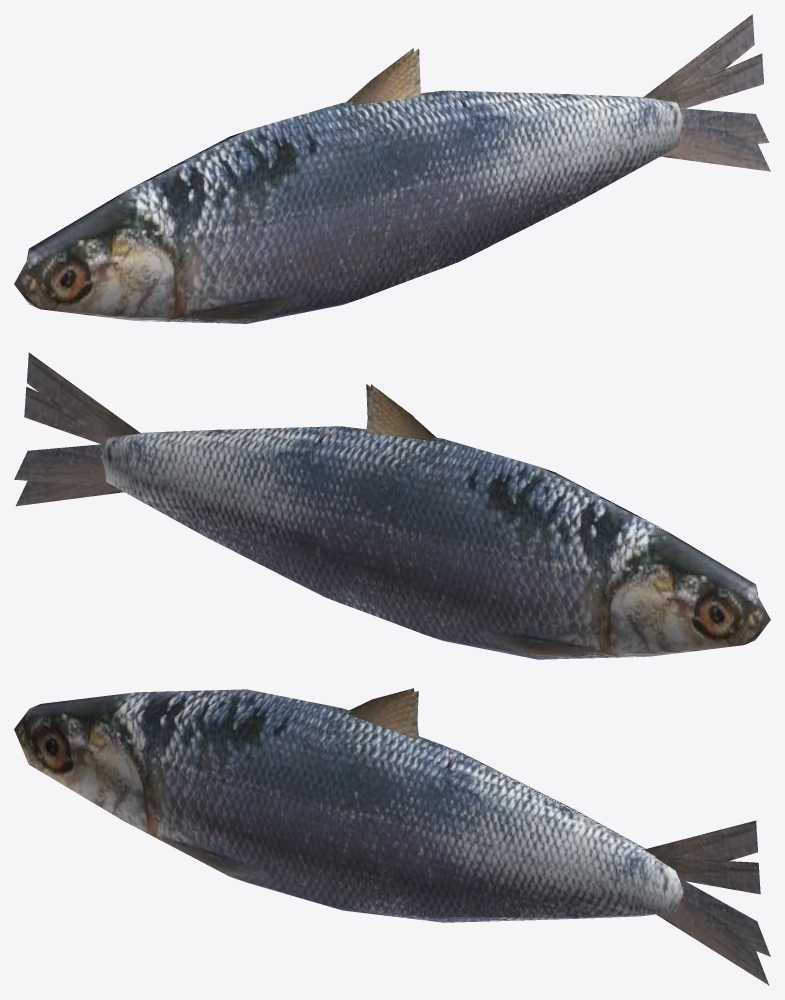
File: fish.glb
The picture shows the model from 3 angles, top to bottom: view 1: azimuth 30°, elevation 25°; view 2: azimuth 150°, elevation 25°; view 3: azimuth 330°, elevation 25°; orthographic projection.
Parts seen in each view (by area): view 1: Props_Fish_1.001; view 2: Props_Fish_1.001; view 3: Props_Fish_1.001.
Boxes of the visible parts, x1=… form: Props_Fish_1.001: x1=14, y1=14, x2=770, y2=323; Props_Fish_1.001: x1=14, y1=352, x2=770, y2=659; Props_Fish_1.001: x1=14, y1=688, x2=770, y2=985.
Size of the model in its own units: 0.5817 by 0.1761 by 0.0603.
1 material, 1 textured.
